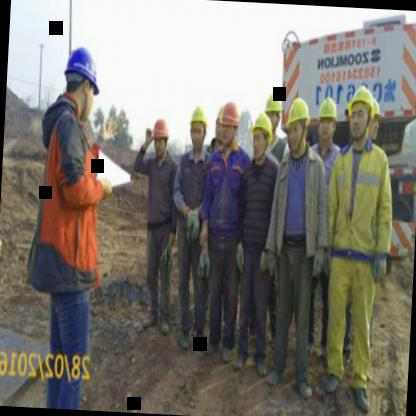helmet: (57, 38, 104, 126), (344, 80, 376, 143), (284, 92, 311, 152), (214, 97, 242, 151), (314, 92, 341, 146), (186, 100, 211, 154), (249, 107, 272, 157), (262, 93, 284, 135), (148, 115, 170, 155), (368, 95, 382, 143)
